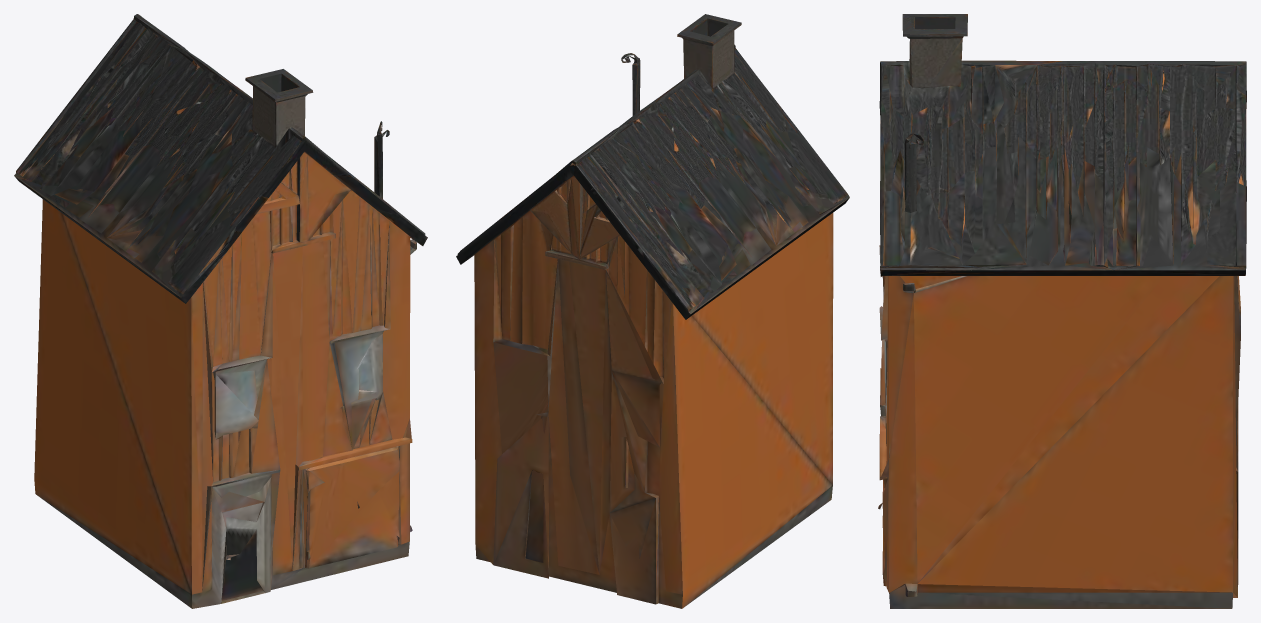
Rendered from sjohus.glb.
The picture shows the model from 3 angles, left to right: view 1: azimuth 30°, elevation 25°; view 2: azimuth 150°, elevation 25°; view 3: azimuth 270°, elevation 25°; orthographic projection. The views are drawn at different scales.
Parts seen in each view (by area): view 1: mesh_node; view 2: mesh_node; view 3: mesh_node.
Part boxes in pixels (left/top/right/bottom): mesh_node: left=14, top=14, right=427, bottom=608; mesh_node: left=456, top=14, right=849, bottom=608; mesh_node: left=878, top=14, right=1246, bottom=608.
Bounding box in the file's own units: 1.01 × 1.9 × 1.2.
Materials: 1 (1 with a texture image).
